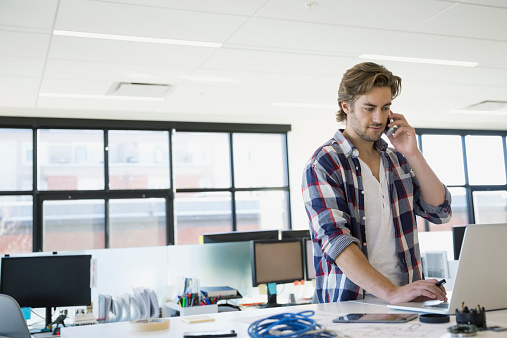em pe: (317, 74, 451, 322)
